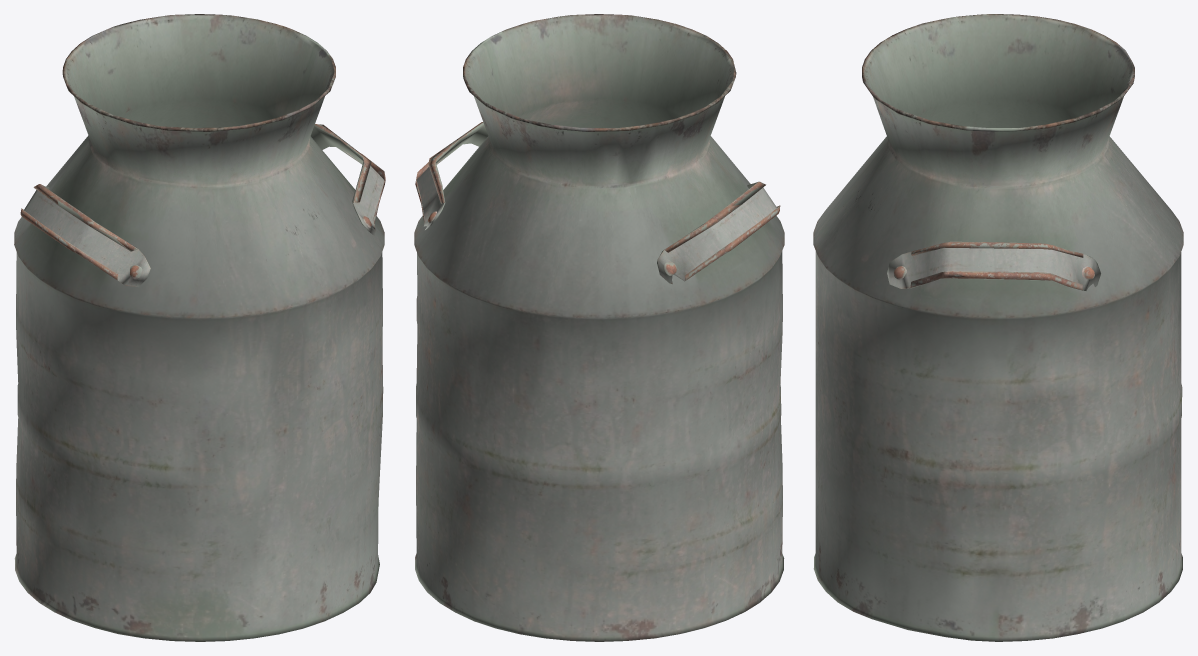
File: metal_jug_1k_LOD1.fbx
3 renders of one model, left to right at view 1: azimuth 30°, elevation 25°; view 2: azimuth 150°, elevation 25°; view 3: azimuth 270°, elevation 25°, orthographic.
Visible parts, largest first — view 1: metal_jug; view 2: metal_jug; view 3: metal_jug.
Boxes of the visible parts, x1,y1,x2,y2 form: metal_jug: [14, 14, 385, 641]; metal_jug: [414, 14, 784, 641]; metal_jug: [813, 14, 1183, 641].
Bounding box in the file's own units: 19.69 × 28.76 × 19.59.
Materials: 1 (1 with a texture image).
